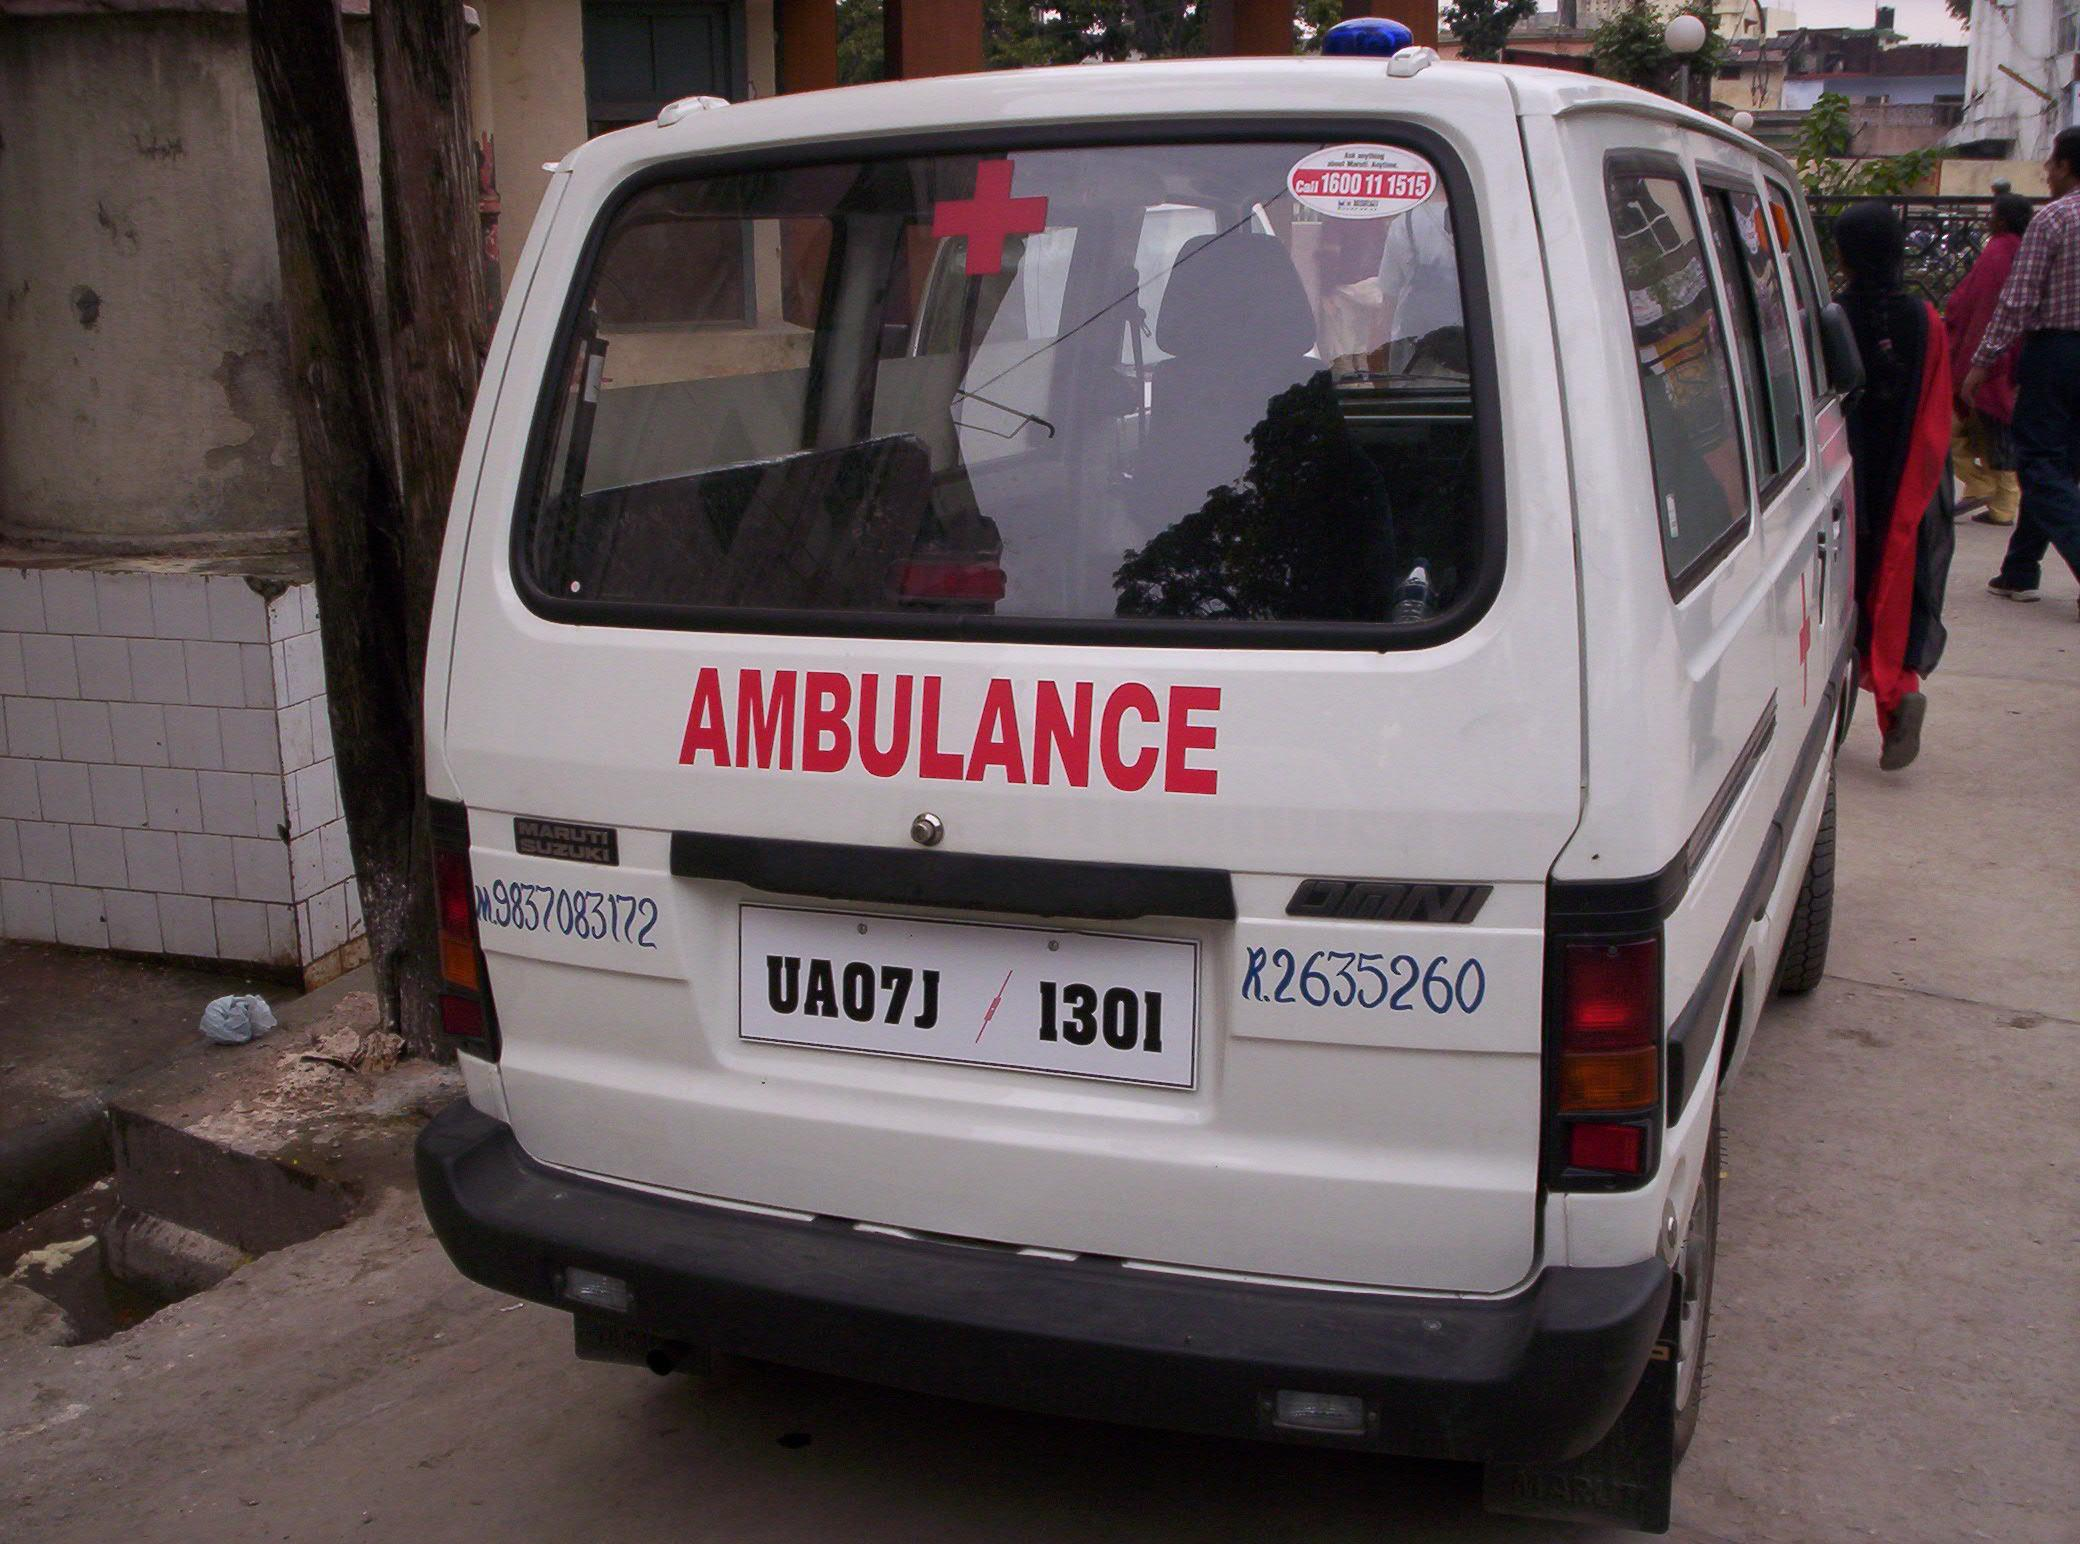ambulance: (413, 50, 1824, 1544)
